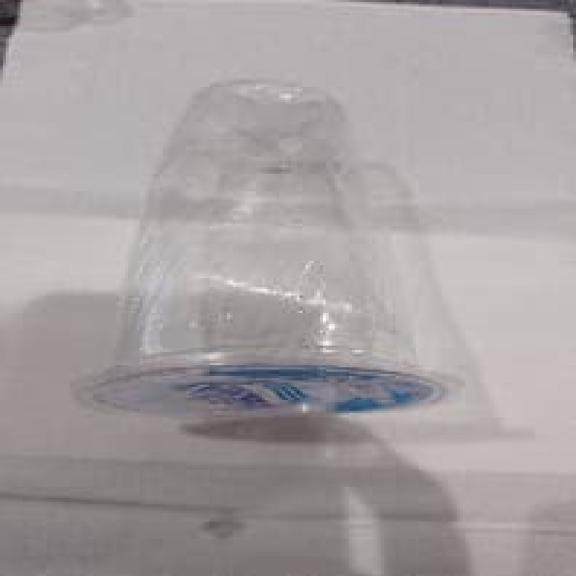Plastik: (95, 81, 456, 417)
